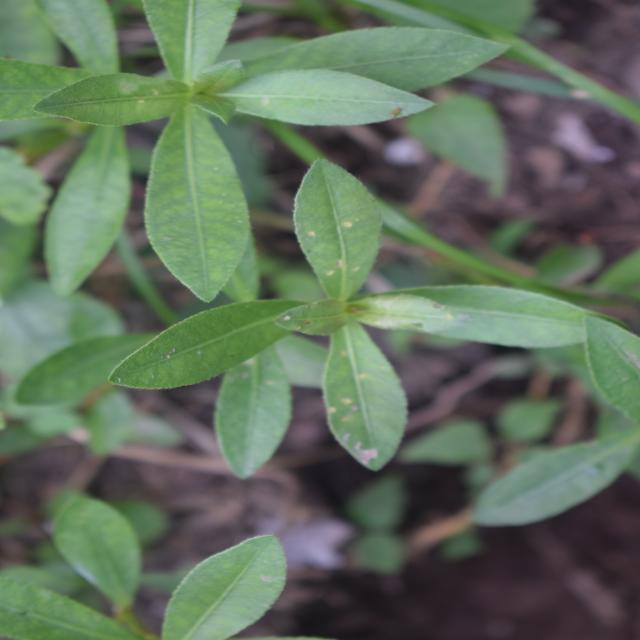Alligatorweed: (172, 105, 440, 529), (378, 70, 635, 507)
